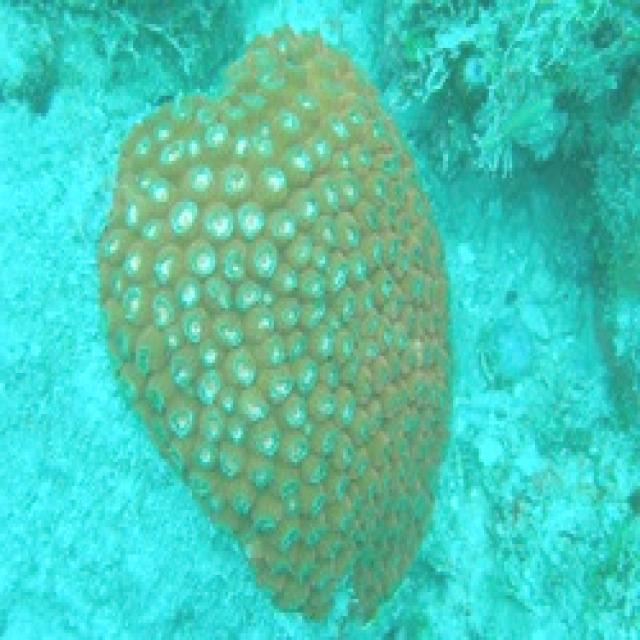Coral: (98, 24, 456, 628)
